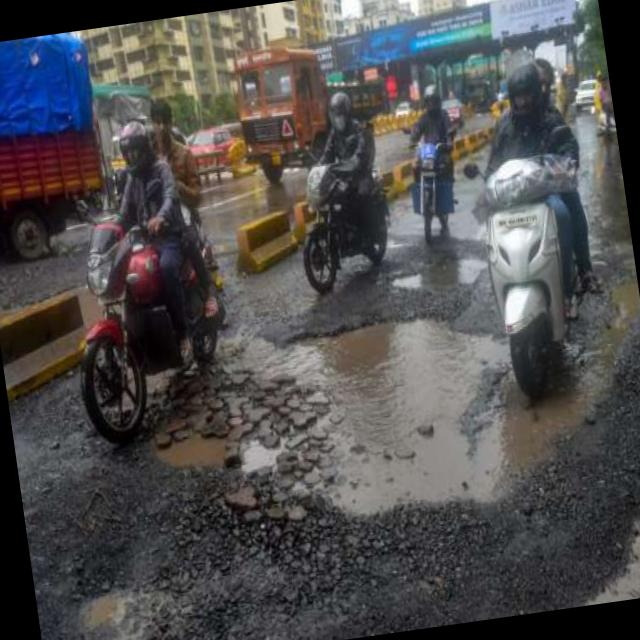Potholes: (100, 230, 640, 562), (542, 457, 640, 609), (38, 585, 222, 640), (371, 238, 496, 306), (446, 230, 514, 304)
